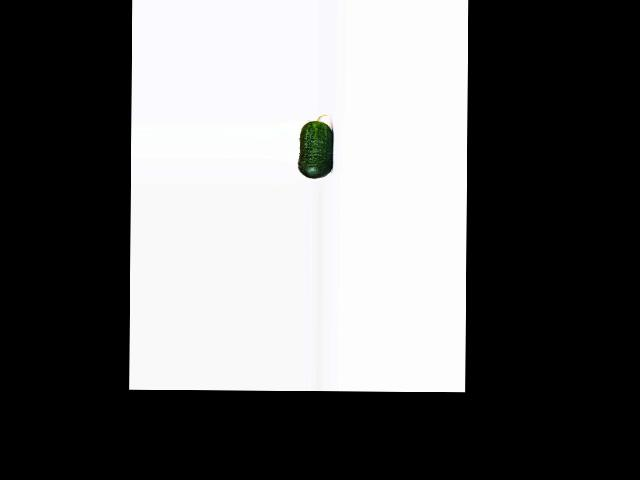cucumber: (297, 114, 333, 178)
